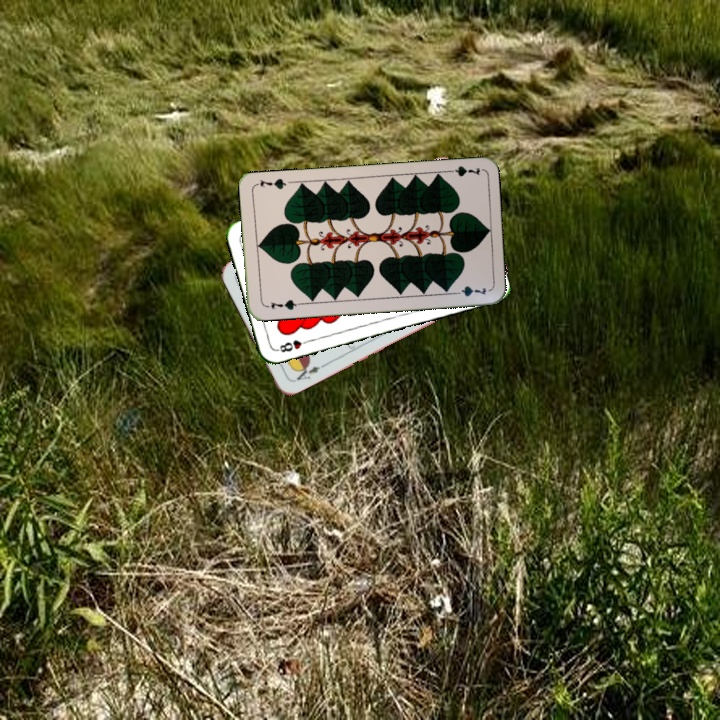EA: (289, 360, 327, 385)
G7: (441, 161, 482, 179), (262, 295, 302, 313)
H8: (273, 336, 313, 355)
